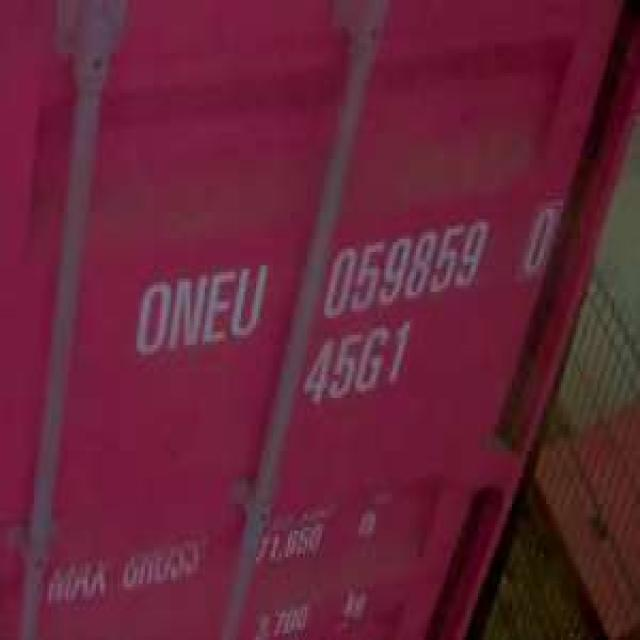dv: (515, 195, 562, 288)
owner: (126, 252, 271, 361)
serial: (311, 209, 493, 318)
size: (296, 317, 416, 417)
